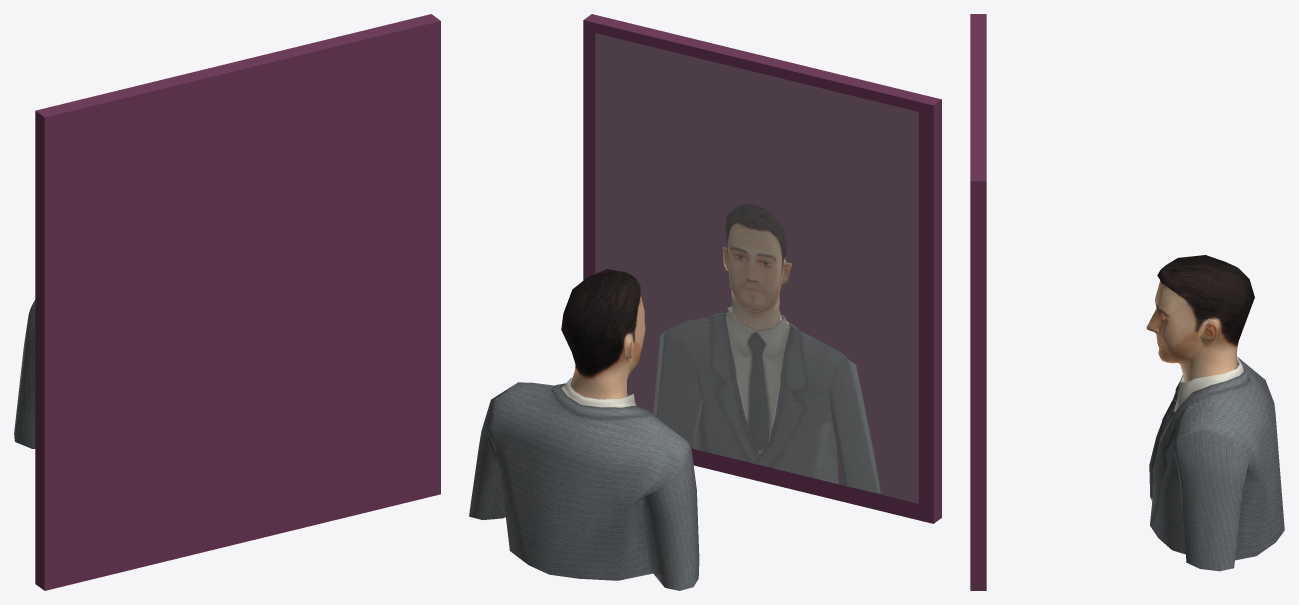
Rendered from mirror_setup.fbx.
The picture shows the model from 3 angles, left to right: view 1: azimuth 30°, elevation 25°; view 2: azimuth 150°, elevation 25°; view 3: azimuth 270°, elevation 25°; orthographic projection. The views are drawn at different scales.
Parts seen in each view (by area): view 1: mirror3, mirror_man; view 2: mirror3, mirror_man, mirror_man1; view 3: mirror_man, mirror3.
Part boxes in pixels (x1,y1,x2,y2): mirror3: (35, 14, 440, 590); mirror_man: (14, 300, 35, 448); mirror3: (583, 14, 941, 523); mirror_man: (469, 269, 699, 590); mirror_man1: (653, 204, 882, 493); mirror_man: (1146, 255, 1284, 571); mirror3: (970, 14, 986, 590).
Bounding box in the file's own units: 90.32 × 103 × 71.78.
3 materials, 1 textured.
